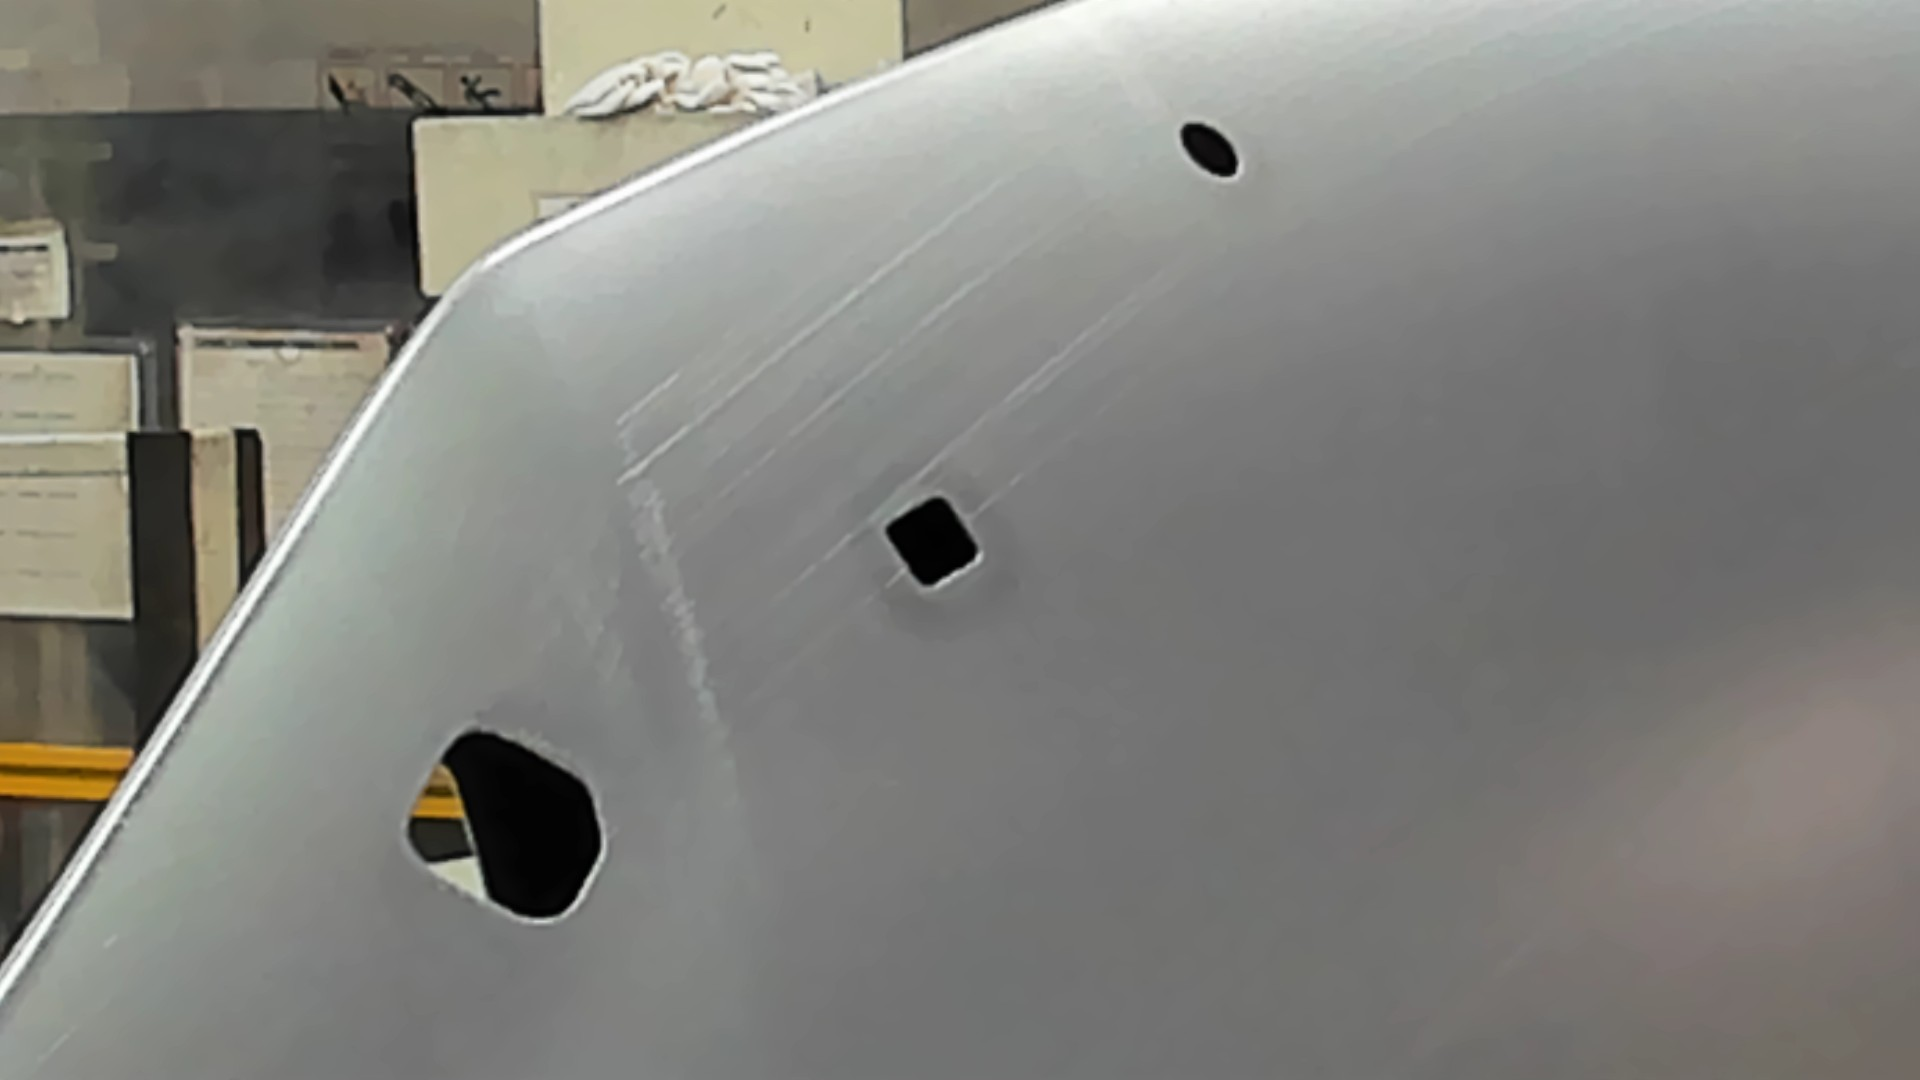capo: (985, 185, 1920, 1080)
chico: (1178, 119, 1245, 181)
grande: (392, 723, 615, 932)
mediano: (877, 488, 984, 592)
